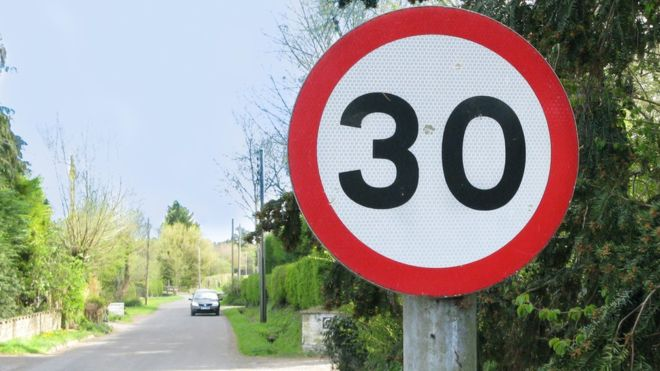Speed_limit_30km: (288, 6, 580, 290)
